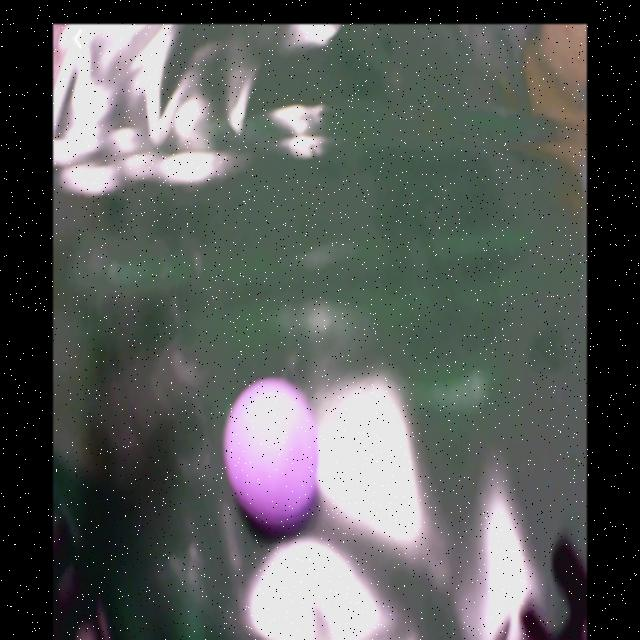ball: (226, 378, 319, 525)
